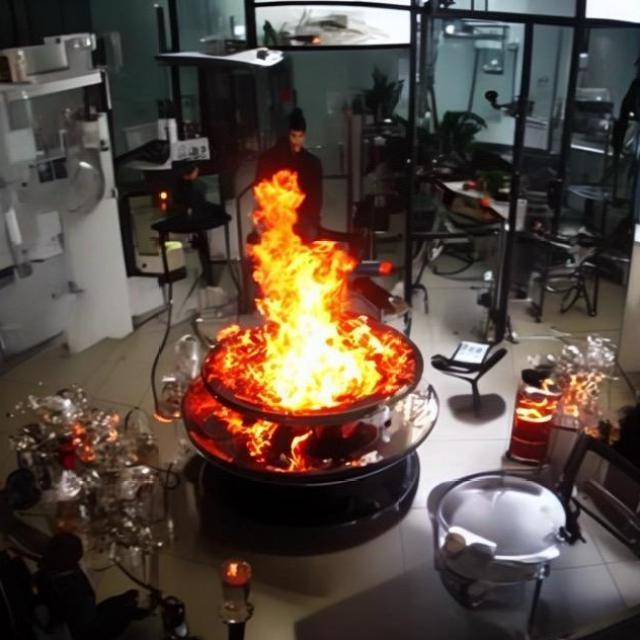smoke: (210, 164, 396, 409)
